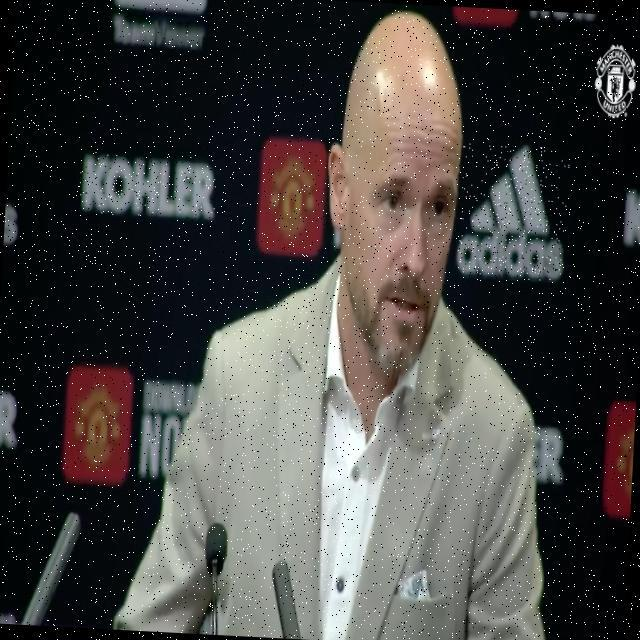Adidas: (456, 143, 571, 282)
Kohler: (79, 152, 218, 221)
TeamViewer: (113, 0, 208, 50)
